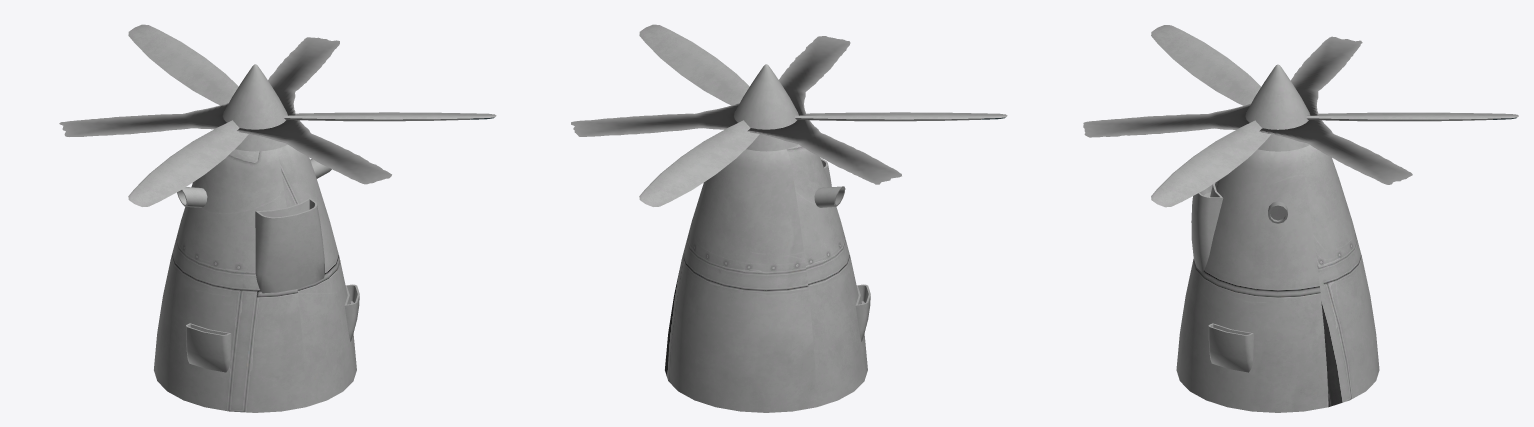
Rendered from size1_turbo.fbx.
3 views of the same model, side by side, from view 1: azimuth 30°, elevation 25°; view 2: azimuth 150°, elevation 25°; view 3: azimuth 270°, elevation 25° (orthographic).
Parts seen in each view (by area): view 1: mesh, low, high; view 2: mesh, low, high; view 3: mesh, low, high.
Part boxes in pixels (<box>): mesh: <box>154,144,359,412</box>; low: <box>128,24,496,206</box>; high: <box>59,37,391,184</box>; mesh: <box>665,144,870,412</box>; low: <box>639,24,1007,206</box>; high: <box>571,36,901,184</box>; mesh: <box>1176,145,1379,412</box>; low: <box>1151,25,1518,207</box>; high: <box>1083,36,1412,184</box>.
Size of what is drawn, in the model's own units: 2.97 by 2.15 by 2.97.
